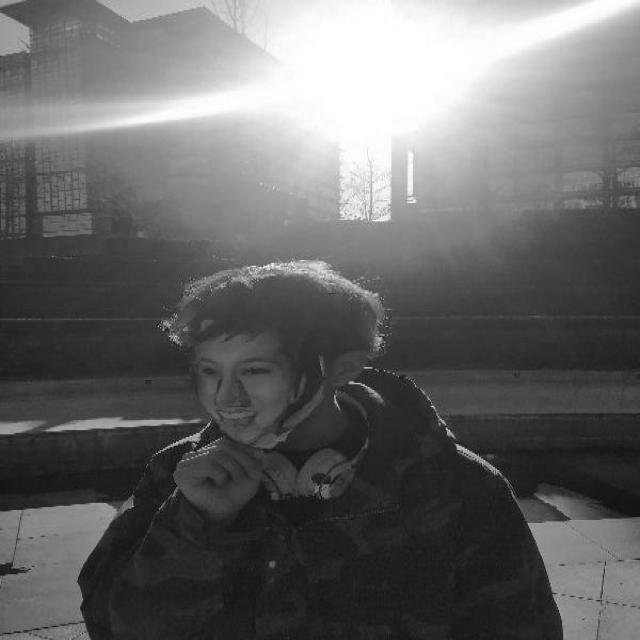fake: (197, 330, 298, 447)
